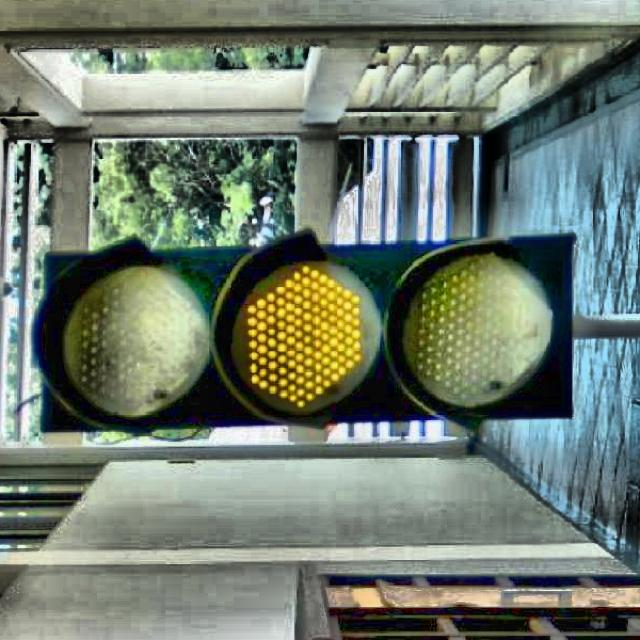yellow: (42, 250, 570, 417)
